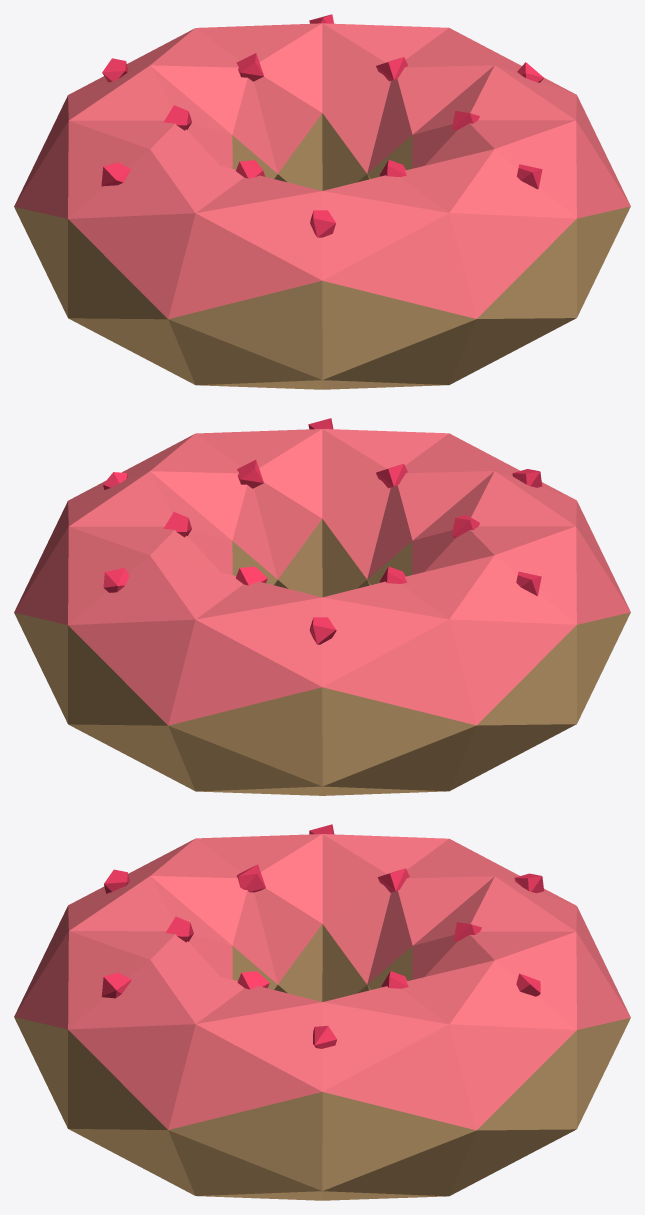
File: doughnut_pink_nut.fbx
3 views of the same model, one above another, from view 1: azimuth 30°, elevation 25°; view 2: azimuth 150°, elevation 25°; view 3: azimuth 270°, elevation 25° (orthographic).
Visible parts, largest first — view 1: dougnut_pink_nut; view 2: dougnut_pink_nut; view 3: dougnut_pink_nut.
Boxes of the visible parts, <box> form: dougnut_pink_nut: <box>14,14,630,389</box>; dougnut_pink_nut: <box>14,418,630,795</box>; dougnut_pink_nut: <box>14,824,630,1200</box>.
Bounding box in the file's own units: 8.94 × 3.34 × 9.39.
